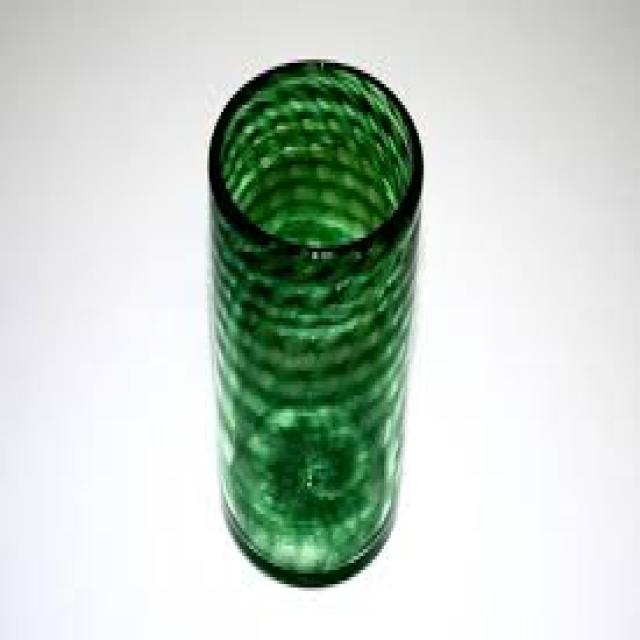glass: (207, 56, 421, 584)
